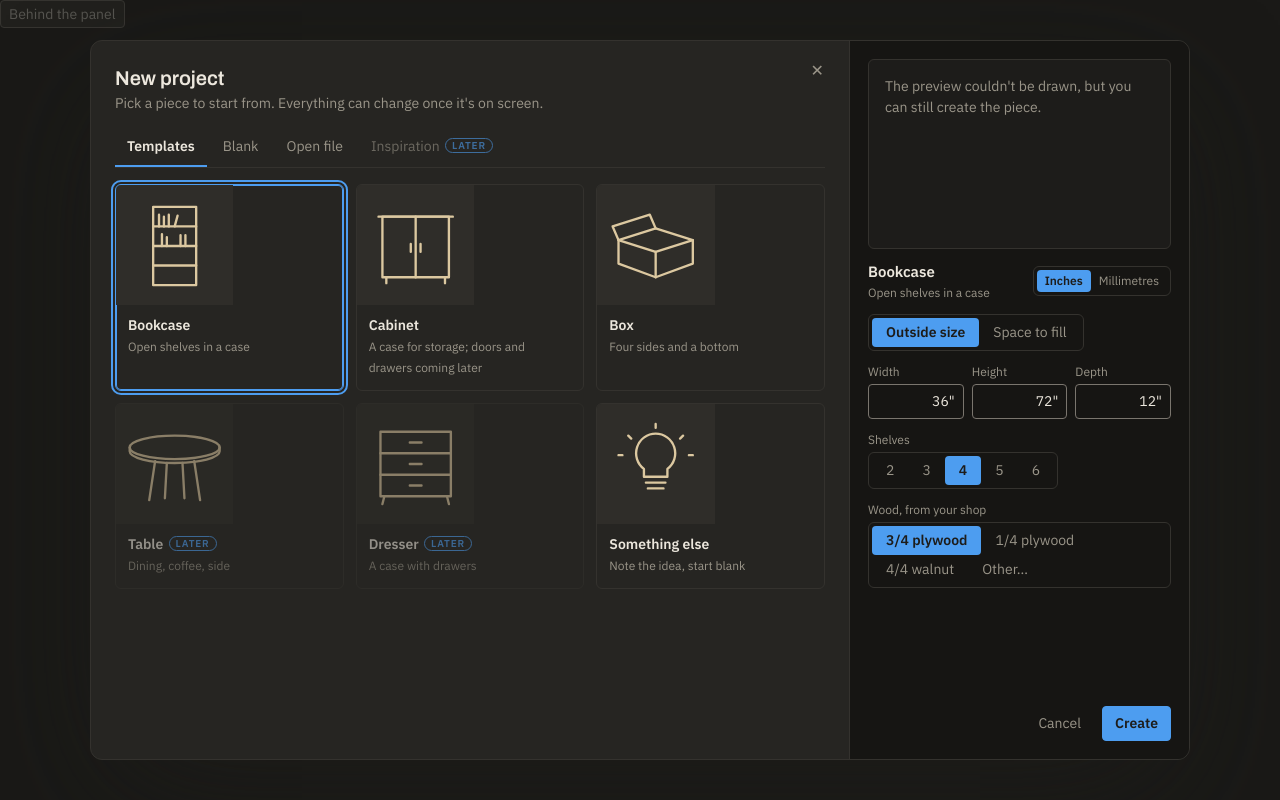
<NewProject> › sizes the piece to a space: the gap, and the outside size it gives
The image size is (1280, 800).
Click the button "Space to fill" at (1030, 332), box [979,318,1080,346]
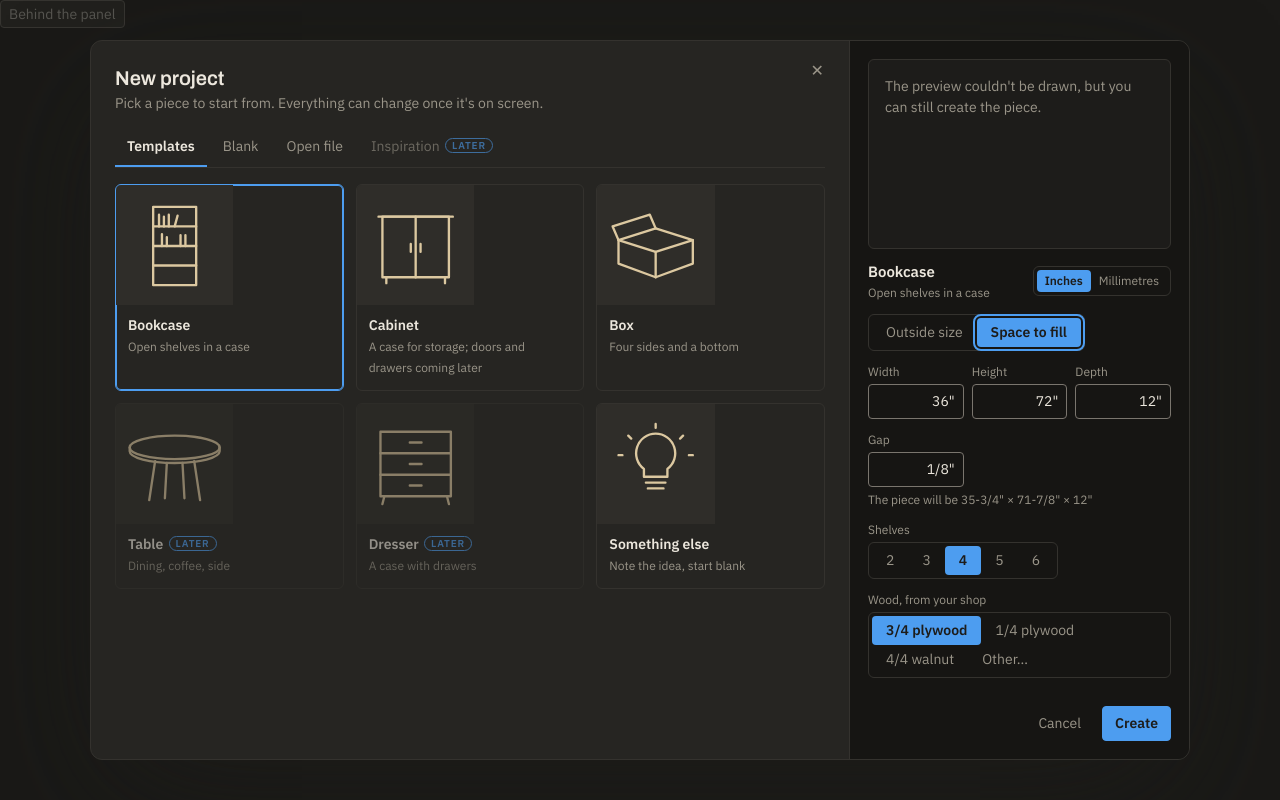
Check: the field labelled "Gap" holds "1/8\"", box [868,452,964,486]
Replace the text in the field labelled "Width" with "30-1/2\"" at (916, 401), box [868,384,964,418]
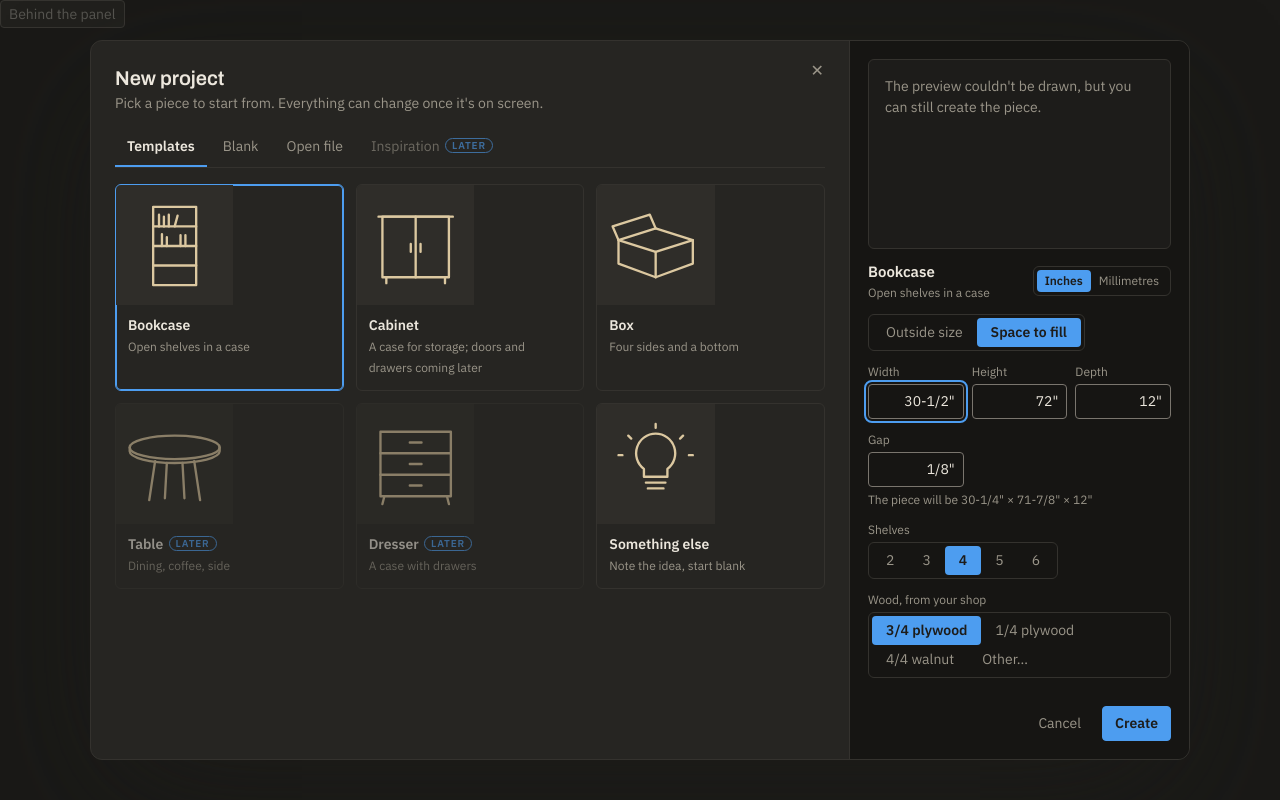
Replace the text in the field labelled "Height" with "80\"" at (1020, 401), box [972,384,1067,418]
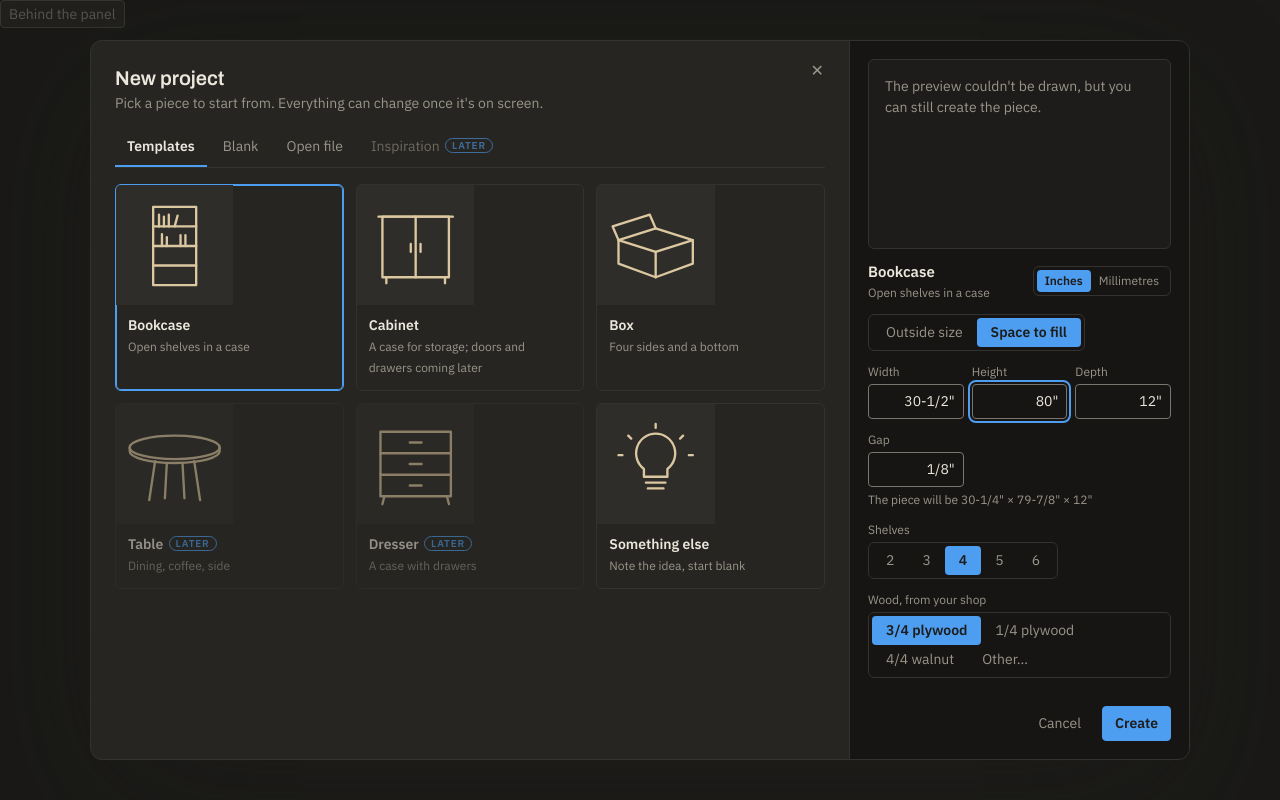
Check: the button "Create" is enabled, box [1102,706,1171,741]
Check: the text "The piece will be 30-1/4\" × 79-7/8\" × 12\"" is shown, box [868,492,1092,506]
